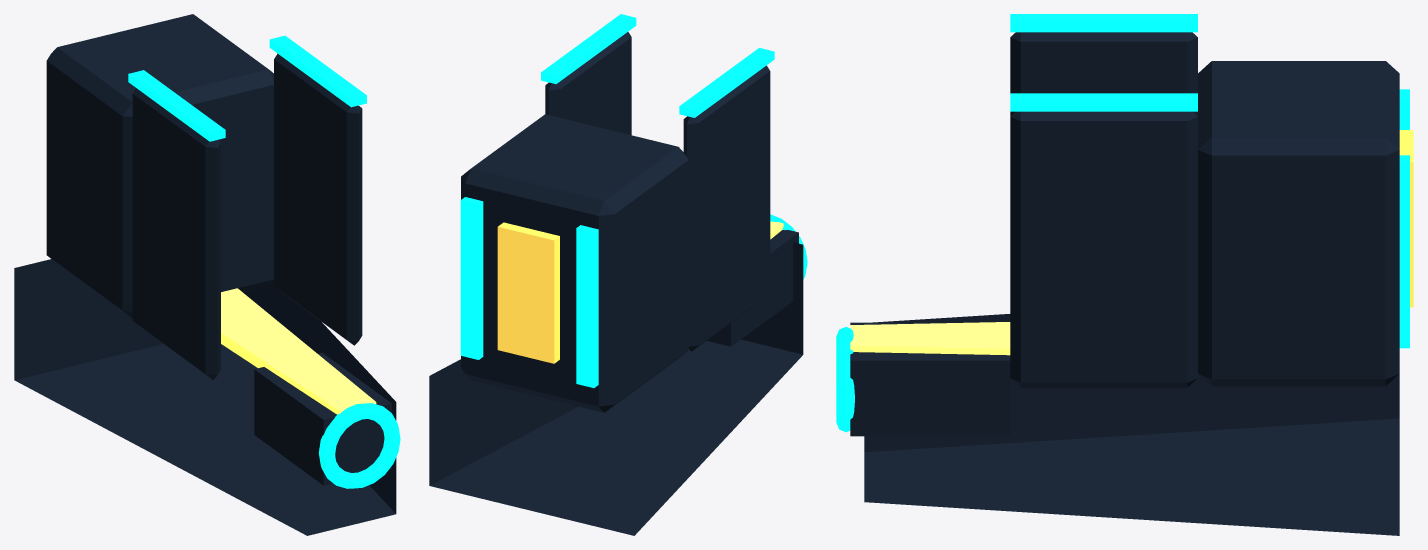
Rendered from launcher.glb.
3 views of the same model, side by side, from view 1: azimuth 30°, elevation 25°; view 2: azimuth 150°, elevation 25°; view 3: azimuth 270°, elevation 25° (orthographic). The views are drawn at different scales.
Visible parts, largest first — view 1: launcher_chassis, launcher_breech, launcher_fin_R, launcher_fin_L, launcher_barrel, launcher_channel, launcher_muzzle, launcher_fin_glow_L, launcher_fin_glow_R; view 2: launcher_breech, launcher_chassis, launcher_fin_L, launcher_core, launcher_fin_R, launcher_vent_R, launcher_vent_L, launcher_barrel, launcher_fin_glow_L, launcher_fin_glow_R; view 3: launcher_breech, launcher_chassis, launcher_fin_R, launcher_barrel, launcher_fin_L, launcher_channel, launcher_fin_glow_L, launcher_fin_glow_R, launcher_vent_R, launcher_muzzle, launcher_core.
Boxes of the visible parts, <box> form: launcher_chassis: <box>14,259,396,535</box>; launcher_breech: <box>46,14,273,318</box>; launcher_fin_R: <box>274,53,362,345</box>; launcher_fin_L: <box>132,88,220,379</box>; launcher_barrel: <box>254,352,391,485</box>; launcher_channel: <box>221,288,376,414</box>; launcher_muzzle: <box>319,403,400,488</box>; launcher_fin_glow_L: <box>128,70,225,141</box>; launcher_fin_glow_R: <box>269,35,366,107</box>; launcher_breech: <box>461,114,688,412</box>; launcher_chassis: <box>429,242,803,535</box>; launcher_fin_L: <box>683,65,770,351</box>; launcher_core: <box>497,222,559,363</box>; launcher_fin_R: <box>545,32,631,135</box>; launcher_vent_R: <box>460,197,483,359</box>; launcher_vent_L: <box>576,225,598,387</box>; launcher_barrel: <box>706,230,798,346</box>; launcher_fin_glow_L: <box>679,48,774,117</box>; launcher_fin_glow_R: <box>541,14,636,83</box>; launcher_breech: <box>1198,61,1399,386</box>; launcher_chassis: <box>864,314,1399,535</box>; launcher_fin_R: <box>1010,111,1197,387</box>; launcher_barrel: <box>850,322,1010,436</box>; launcher_fin_L: <box>1010,32,1197,116</box>; launcher_channel: <box>850,322,1010,355</box>; launcher_fin_glow_L: <box>1010,14,1197,32</box>; launcher_fin_glow_R: <box>1010,93,1197,111</box>; launcher_vent_R: <box>1399,155,1409,348</box>; launcher_muzzle: <box>836,327,854,432</box>; launcher_core: <box>1399,130,1413,307</box>.
Size of the model in its own units: 0.8 by 1.33 by 1.66.
